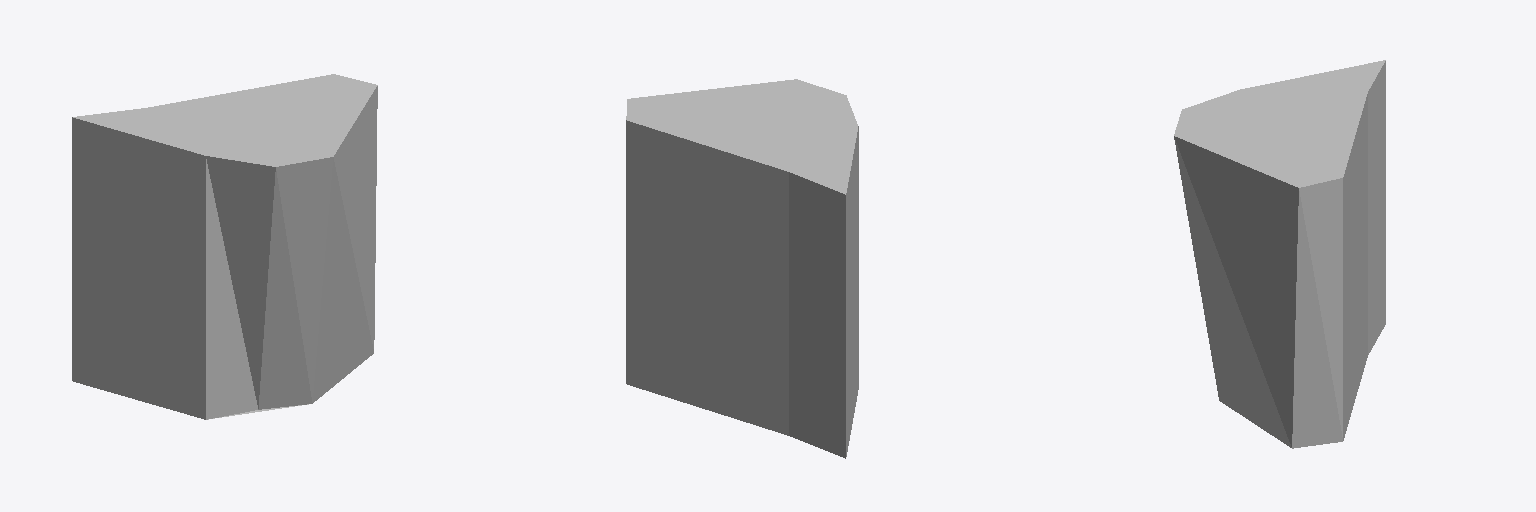
File: Platform front left.obj
3 renders of one model, left to right at view 1: azimuth 30°, elevation 25°; view 2: azimuth 150°, elevation 25°; view 3: azimuth 270°, elevation 25°, orthographic.
Visible parts, largest first — view 1: Platform front left; view 2: Platform front left; view 3: Platform front left.
Boxes of the visible parts, box(x1,y1,x2,y2) form: Platform front left: box(72, 74, 377, 419); Platform front left: box(626, 79, 858, 458); Platform front left: box(1174, 60, 1385, 448).
Bounding box in the file's own units: 58.74 × 56.43 × 41.12.